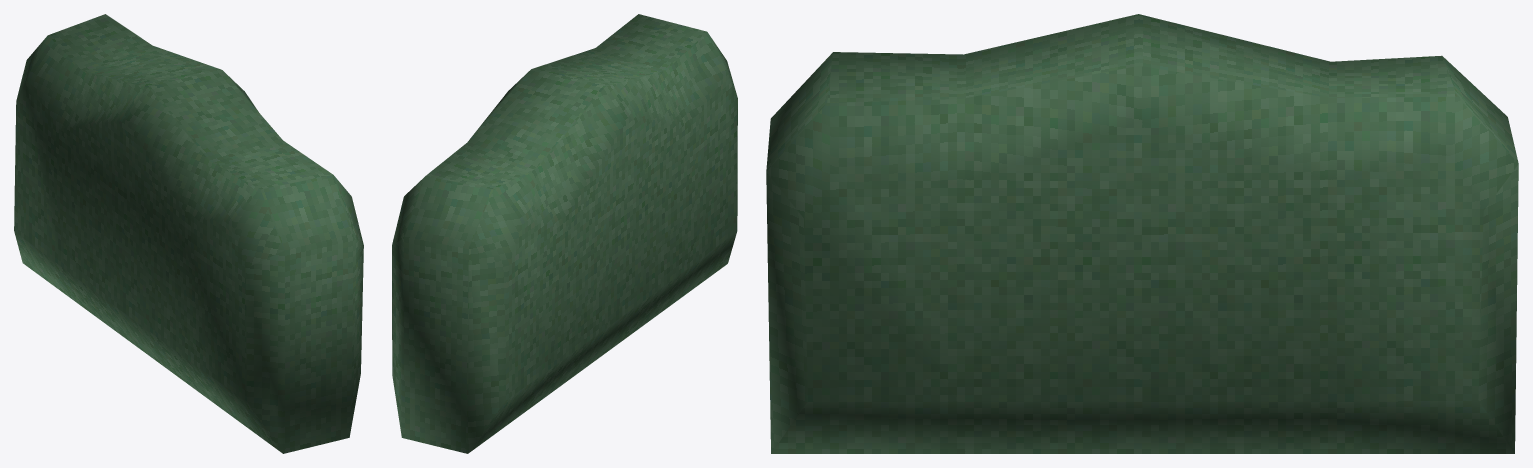
Rendered from HedgeRow2.fbx.
3 views of the same model, side by side, from view 1: azimuth 30°, elevation 25°; view 2: azimuth 150°, elevation 25°; view 3: azimuth 270°, elevation 25° (orthographic). The views are drawn at different scales.
Parts seen in each view (by area): view 1: Hedge2; view 2: Hedge2; view 3: Hedge2.
Boxes of the visible parts, x1=… form: Hedge2: x1=14, y1=14, x2=363, y2=453; Hedge2: x1=392, y1=14, x2=737, y2=453; Hedge2: x1=766, y1=14, x2=1518, y2=453.
Size of the model in its own units: 1.06 by 4.05 by 2.31.
